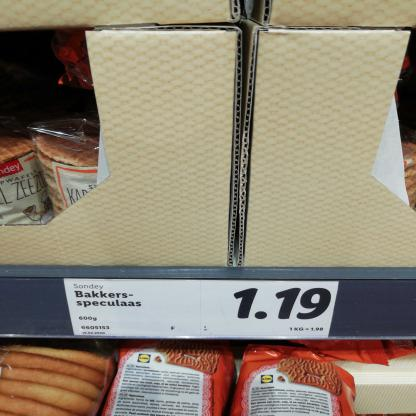prtg: (65, 280, 340, 339)
